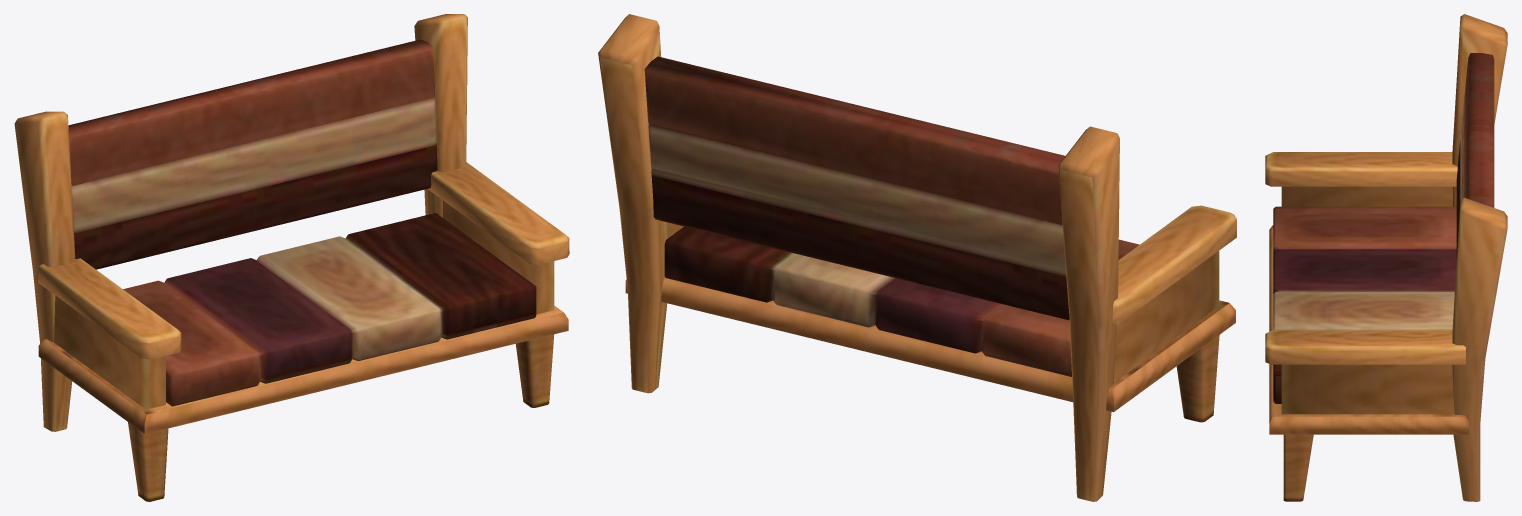
File: rmk_mxw_chairL.dae
3 renders of one model, left to right at view 1: azimuth 30°, elevation 25°; view 2: azimuth 150°, elevation 25°; view 3: azimuth 270°, elevation 25°, orthographic. The views are drawn at different scales.
Parts seen in each view (by area): view 1: rmk_mxw_chairL; view 2: rmk_mxw_chairL; view 3: rmk_mxw_chairL.
Part boxes in pixels (x1=…): rmk_mxw_chairL: x1=14, y1=14, x2=569, y2=501; rmk_mxw_chairL: x1=598, y1=14, x2=1236, y2=501; rmk_mxw_chairL: x1=1265, y1=14, x2=1507, y2=501.
Bounding box in the file's own units: 57.73 × 40.23 × 29.58.
1 material, 1 textured.
